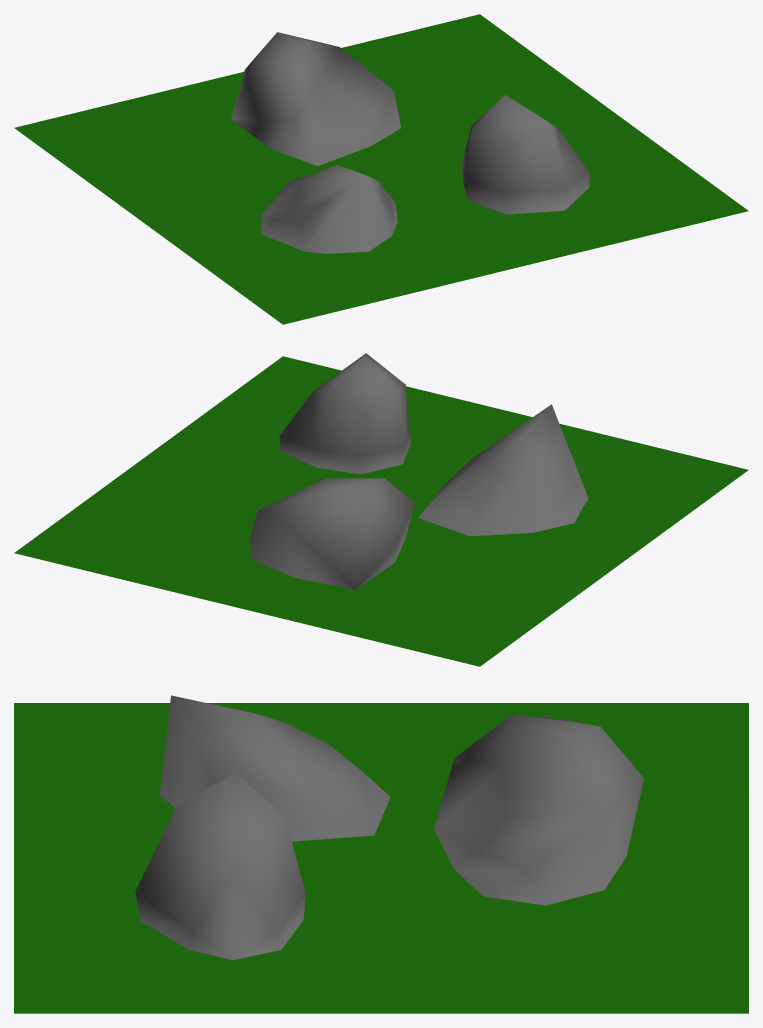
File: wfc_module_20.fbx
3 renders of one model, top to bottom at view 1: azimuth 30°, elevation 25°; view 2: azimuth 150°, elevation 25°; view 3: azimuth 270°, elevation 25°, orthographic. The views are drawn at different scales.
Parts seen in each view (by area): view 1: wfc_module_20; view 2: wfc_module_20; view 3: wfc_module_20.
Boxes of the visible parts, left/top/right/bottom form: wfc_module_20: left=14, top=14, right=748, bottom=324; wfc_module_20: left=14, top=353, right=748, bottom=666; wfc_module_20: left=14, top=695, right=748, bottom=1013.
Size of the model in its own units: 100 by 19.85 by 100.
